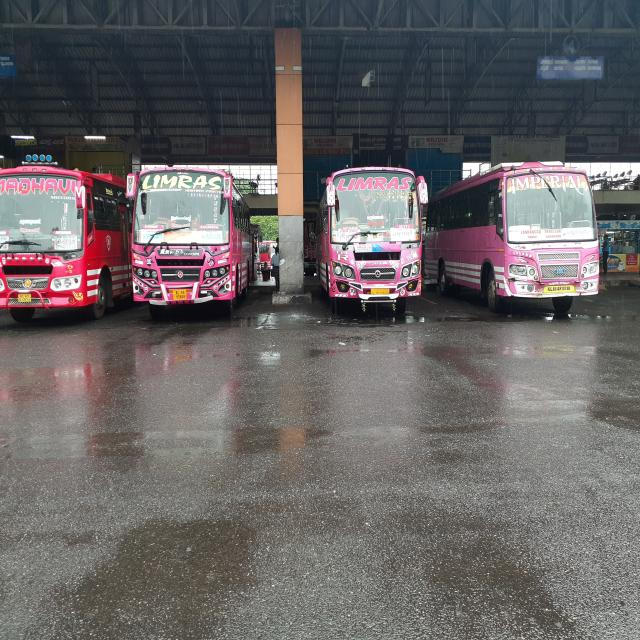Bus: (428, 158, 617, 314), (0, 160, 136, 321), (126, 156, 264, 307), (309, 161, 430, 329)
